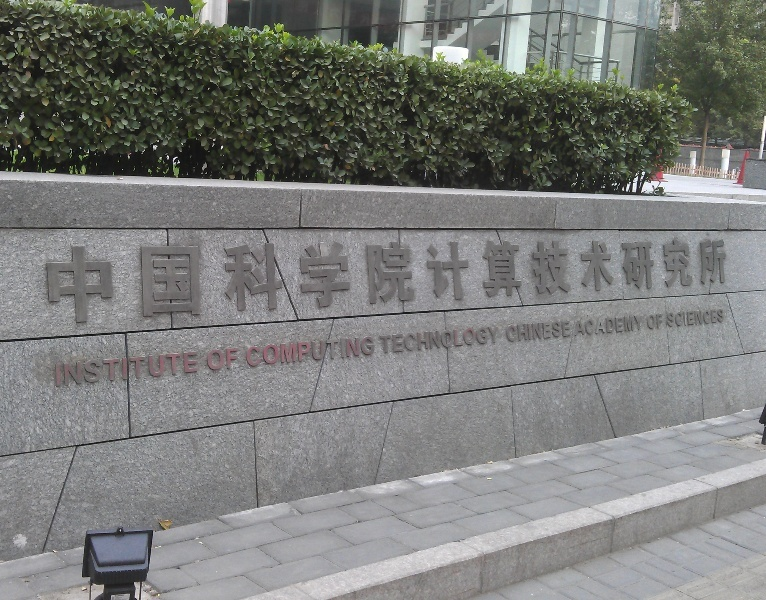text: (49, 238, 64, 330), (65, 238, 80, 330), (81, 238, 96, 330), (97, 238, 112, 330), (113, 238, 128, 330), (129, 238, 144, 330), (145, 238, 160, 330), (161, 238, 176, 330), (177, 238, 192, 330), (193, 238, 208, 330), (209, 238, 224, 330), (225, 238, 240, 330), (241, 238, 256, 330), (257, 238, 272, 330), (273, 238, 288, 330), (289, 238, 304, 330), (305, 238, 320, 330), (321, 238, 336, 330), (337, 238, 352, 330), (353, 238, 368, 330), (369, 238, 384, 330), (385, 238, 400, 330), (401, 238, 416, 330), (417, 238, 432, 330), (433, 238, 448, 330), (449, 238, 464, 330), (465, 238, 480, 330), (481, 238, 496, 330), (497, 238, 512, 330), (513, 238, 528, 330), (529, 238, 544, 330), (545, 238, 560, 330), (561, 238, 576, 330), (577, 238, 592, 330), (593, 238, 608, 330), (609, 238, 624, 330), (625, 238, 640, 330), (641, 238, 656, 330), (657, 238, 672, 330), (673, 238, 688, 330), (689, 238, 704, 330), (705, 238, 720, 330), (721, 238, 731, 330), (65, 350, 80, 388), (81, 350, 96, 388), (97, 350, 112, 388), (113, 350, 128, 388), (129, 350, 144, 388), (145, 350, 160, 388), (161, 350, 176, 388), (177, 350, 192, 388), (257, 335, 272, 368), (273, 335, 288, 368), (289, 335, 304, 368), (305, 335, 320, 368), (321, 335, 336, 368), (337, 335, 352, 368), (353, 335, 368, 368), (385, 327, 400, 354), (401, 327, 416, 354), (417, 327, 432, 354), (433, 327, 448, 354), (449, 327, 464, 354), (465, 327, 480, 354), (481, 327, 496, 354), (244, 335, 256, 368), (54, 350, 64, 388), (44, 238, 48, 330), (209, 348, 224, 371), (225, 348, 240, 371), (513, 321, 528, 343), (529, 321, 544, 343), (545, 321, 560, 343), (577, 315, 592, 336), (593, 315, 608, 336), (609, 315, 624, 336), (625, 315, 640, 336), (673, 308, 688, 328), (689, 308, 704, 328), (705, 308, 720, 328), (193, 350, 200, 388), (561, 321, 573, 343), (369, 335, 376, 368), (646, 313, 656, 330), (505, 321, 512, 343), (379, 327, 384, 354), (666, 308, 672, 328), (657, 313, 664, 330), (721, 308, 725, 328), (573, 315, 576, 336), (497, 327, 499, 354), (206, 348, 208, 371), (641, 315, 643, 336)
